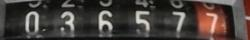digits: (24, 10, 40, 33), (98, 9, 113, 31), (134, 10, 150, 30), (171, 10, 186, 31), (60, 10, 75, 30), (206, 12, 218, 33)
